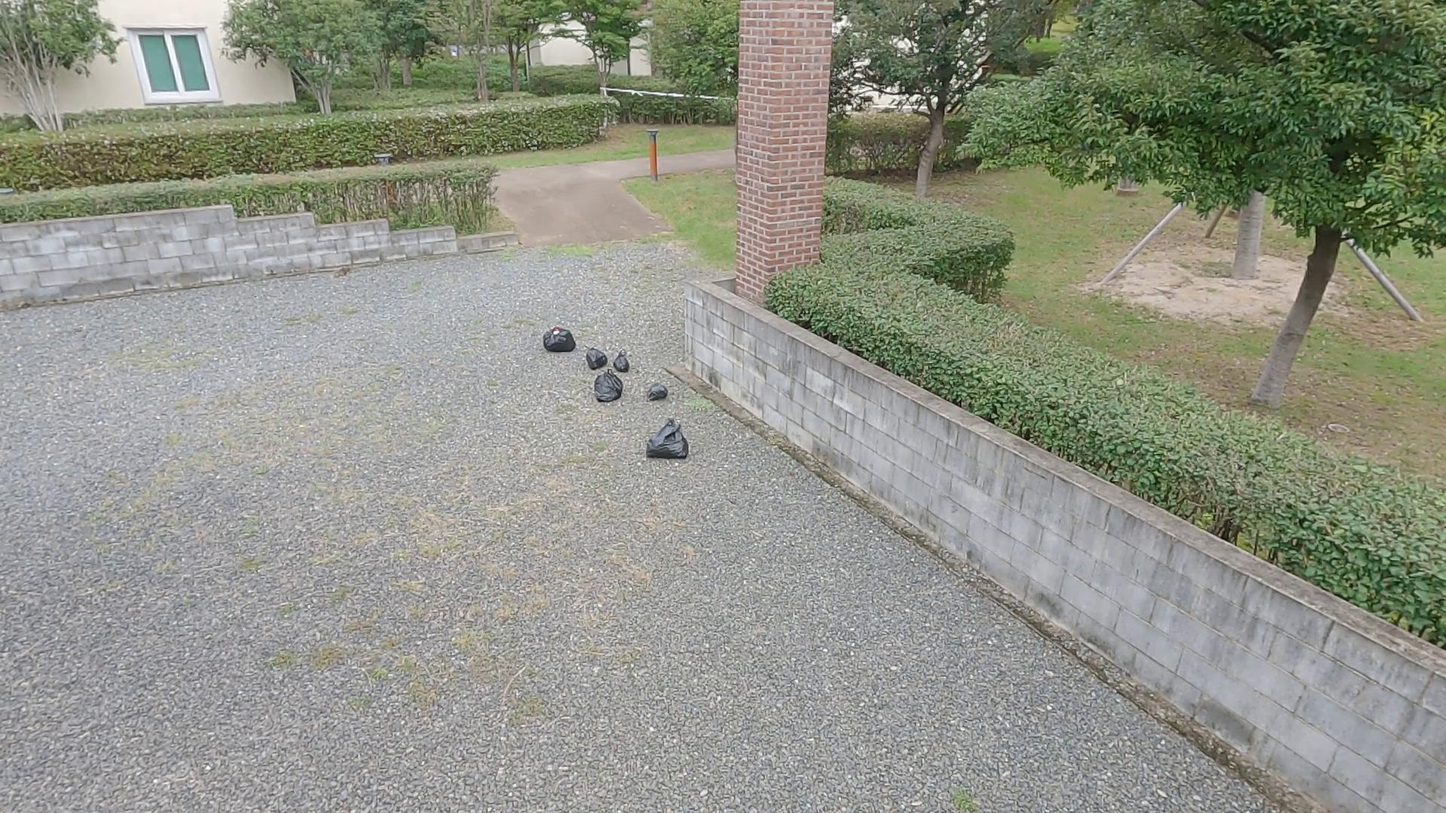trash: (645, 415, 692, 465), (590, 368, 627, 405), (540, 322, 578, 356), (644, 378, 672, 404), (584, 343, 609, 372), (612, 347, 634, 376)
